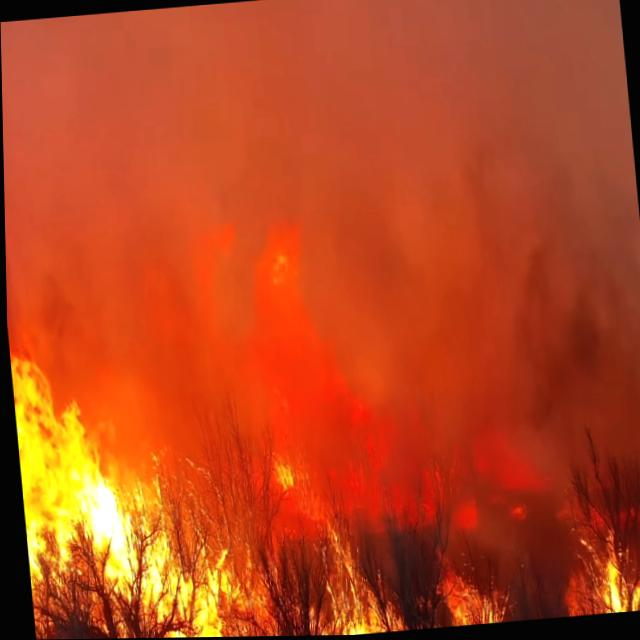fire: (5, 282, 133, 640), (101, 503, 392, 639), (420, 552, 640, 629)
